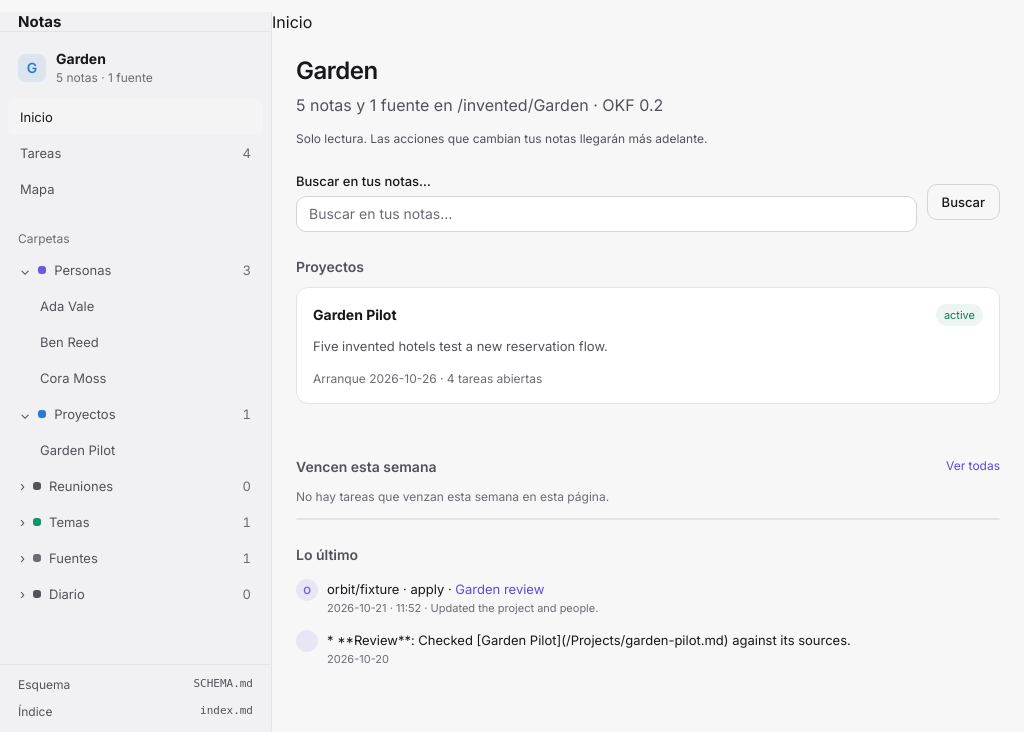
Test case: the folder tree expands nested source folders without flattening their paths
Click the button "› Fuentes 1". click: point(136, 558)
box: top-left (8, 540), bottom-right (263, 576)
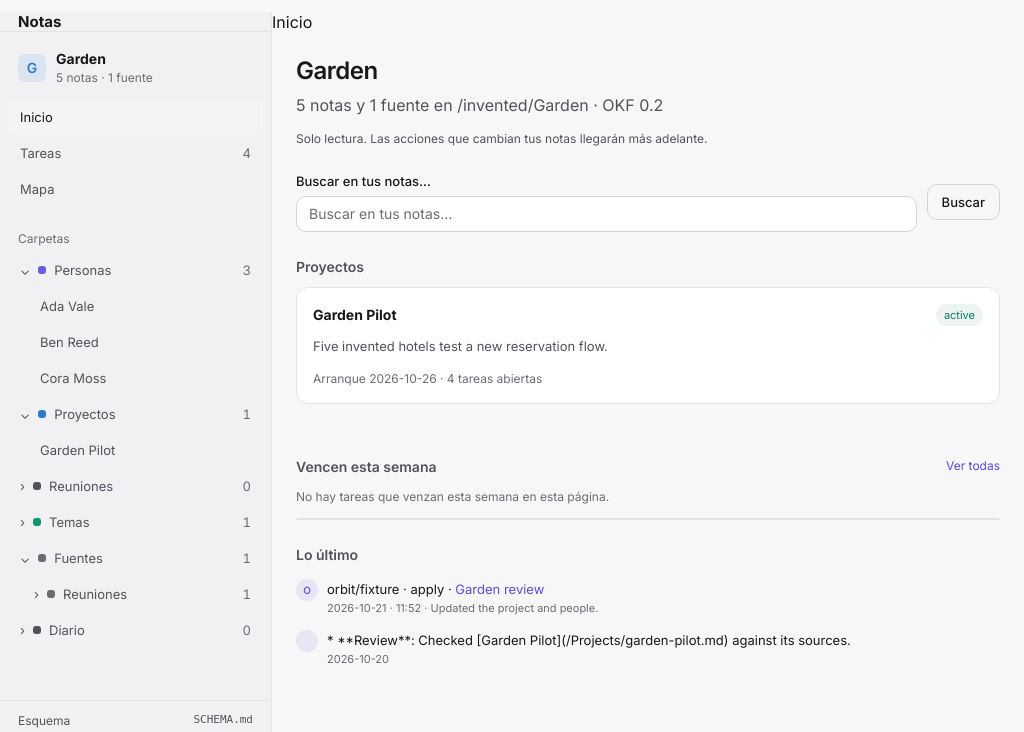
Click the button "› Reuniones 1". click: point(142, 594)
box: top-left (22, 576), bottom-right (263, 612)
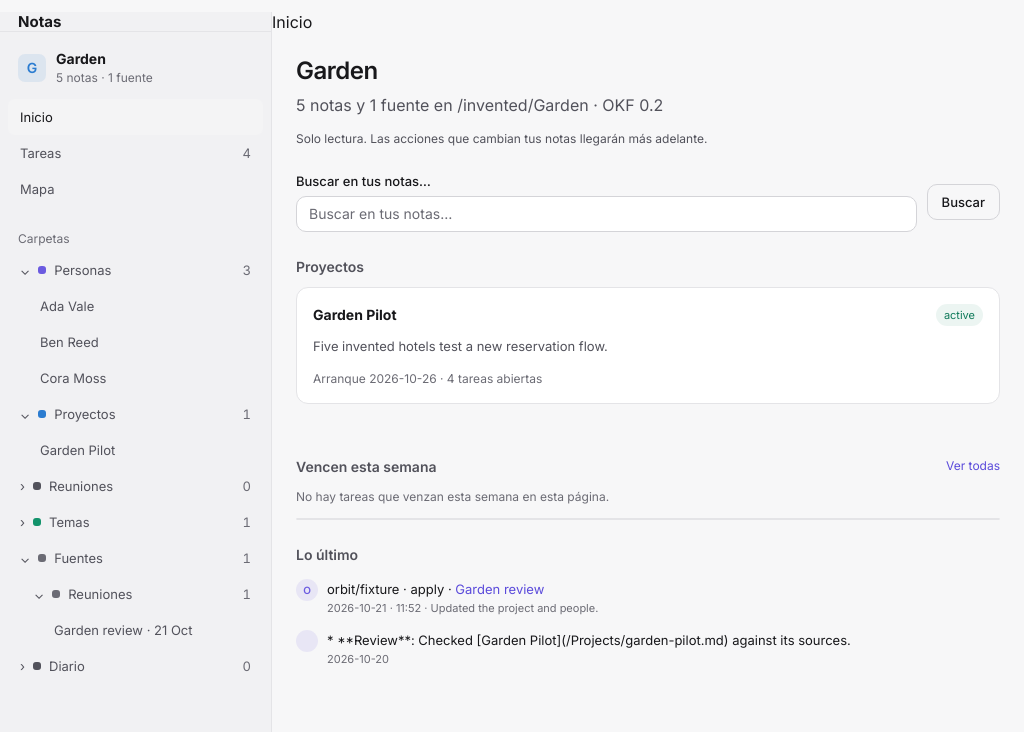
Check: the link "Garden review · 21 Oct" is shown, box top-left (54, 622), bottom-right (192, 638)
